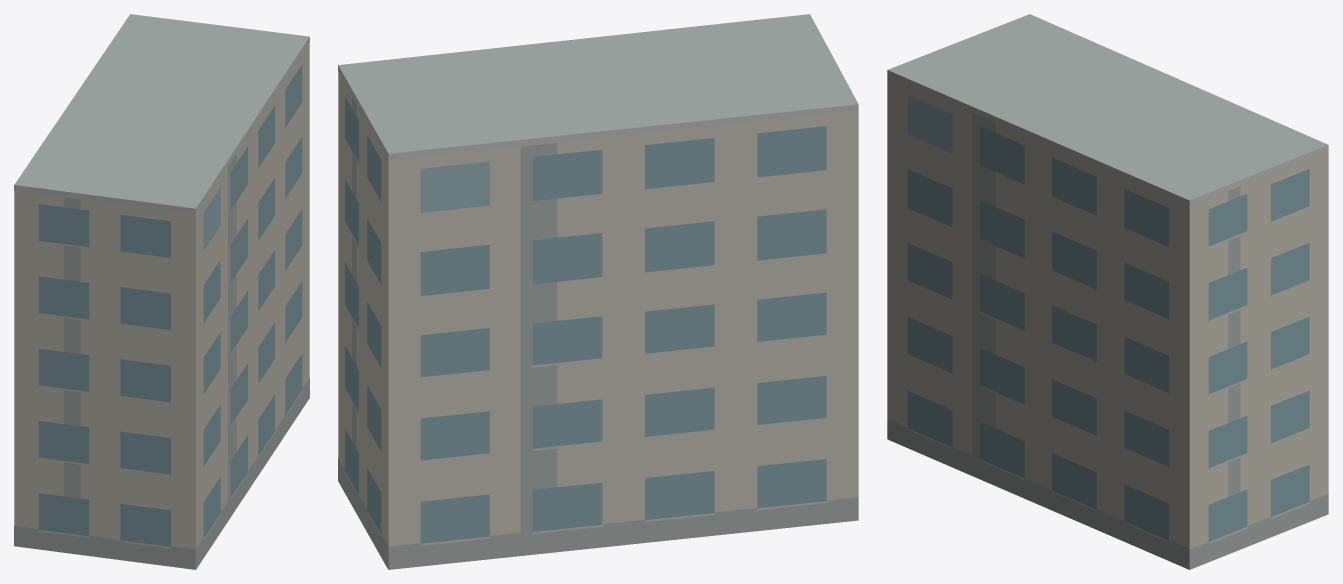
Rendered from survey-upis-32981137.glb.
3 views of the same model, side by side, from view 1: azimuth 30°, elevation 25°; view 2: azimuth 150°, elevation 25°; view 3: azimuth 270°, elevation 25° (orthographic). The views are drawn at different scales.
Visible parts, largest first — view 1: survey-upis-32981137.tmp; view 2: survey-upis-32981137.tmp; view 3: survey-upis-32981137.tmp.
Part boxes in pixels (<box>): survey-upis-32981137.tmp: <box>14,14,309,569</box>; survey-upis-32981137.tmp: <box>338,14,858,569</box>; survey-upis-32981137.tmp: <box>887,14,1328,569</box>.
Size of the model in its own units: 15.81 by 14.6 by 15.81.
